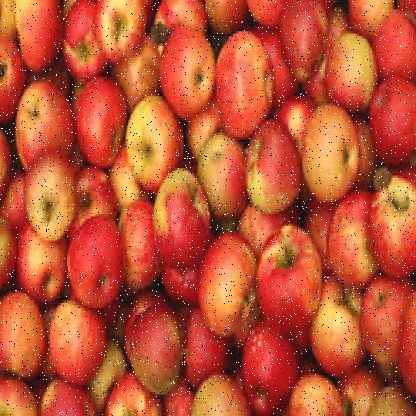apple: (211, 32, 273, 144), (261, 221, 319, 313), (201, 236, 261, 324), (154, 169, 216, 254), (304, 104, 364, 190), (250, 113, 302, 207), (132, 94, 188, 180), (166, 19, 220, 108), (328, 180, 380, 270), (17, 151, 73, 231), (242, 322, 298, 402), (12, 84, 72, 158), (50, 301, 106, 375), (131, 312, 188, 384), (325, 26, 372, 112), (81, 79, 131, 159), (68, 216, 122, 290), (2, 290, 44, 370), (14, 0, 60, 70)
